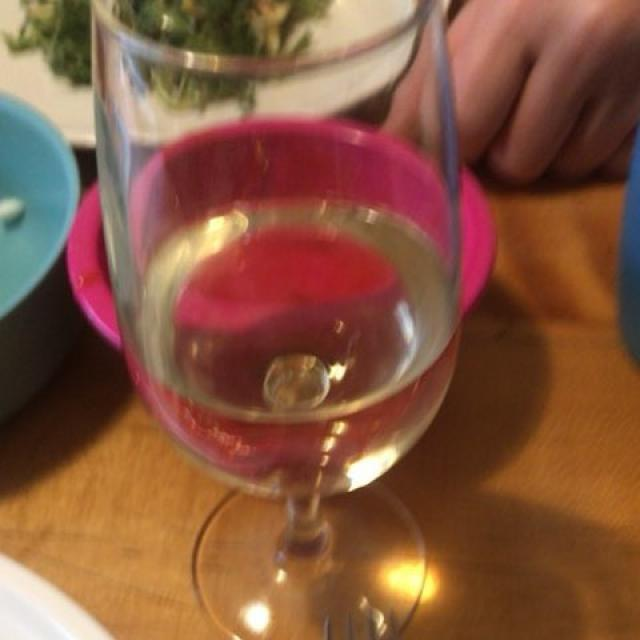wine: (144, 208, 454, 491)
